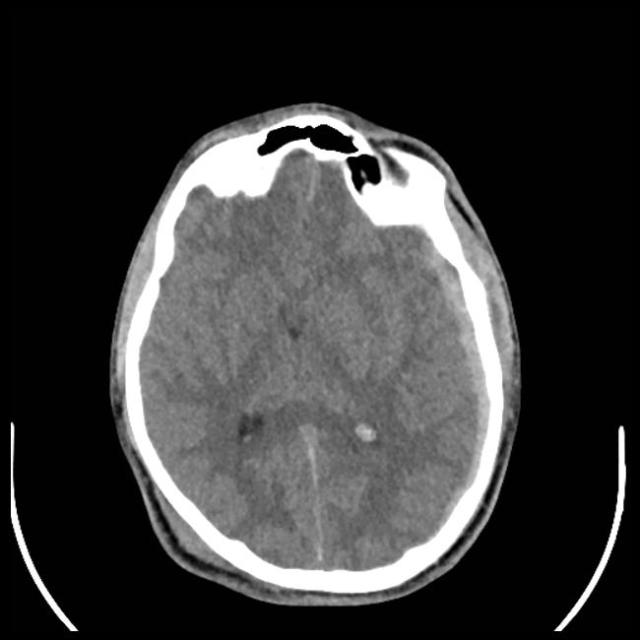lesion: (106, 101, 525, 604)
